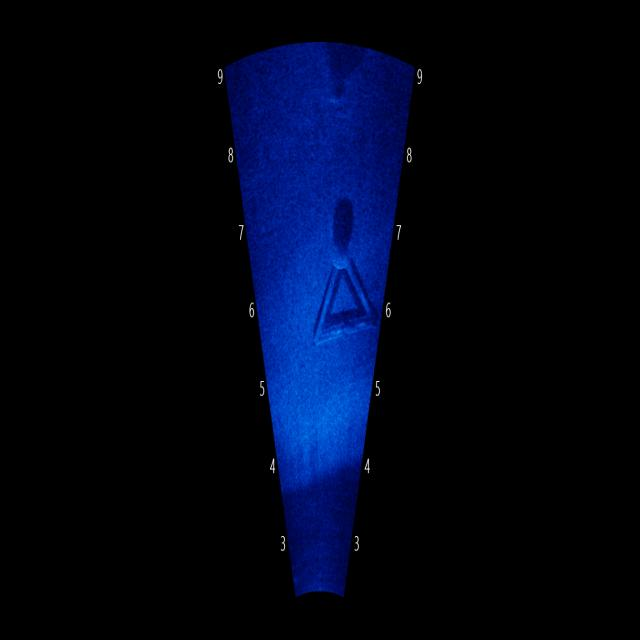triangle: (302, 180, 381, 382)
